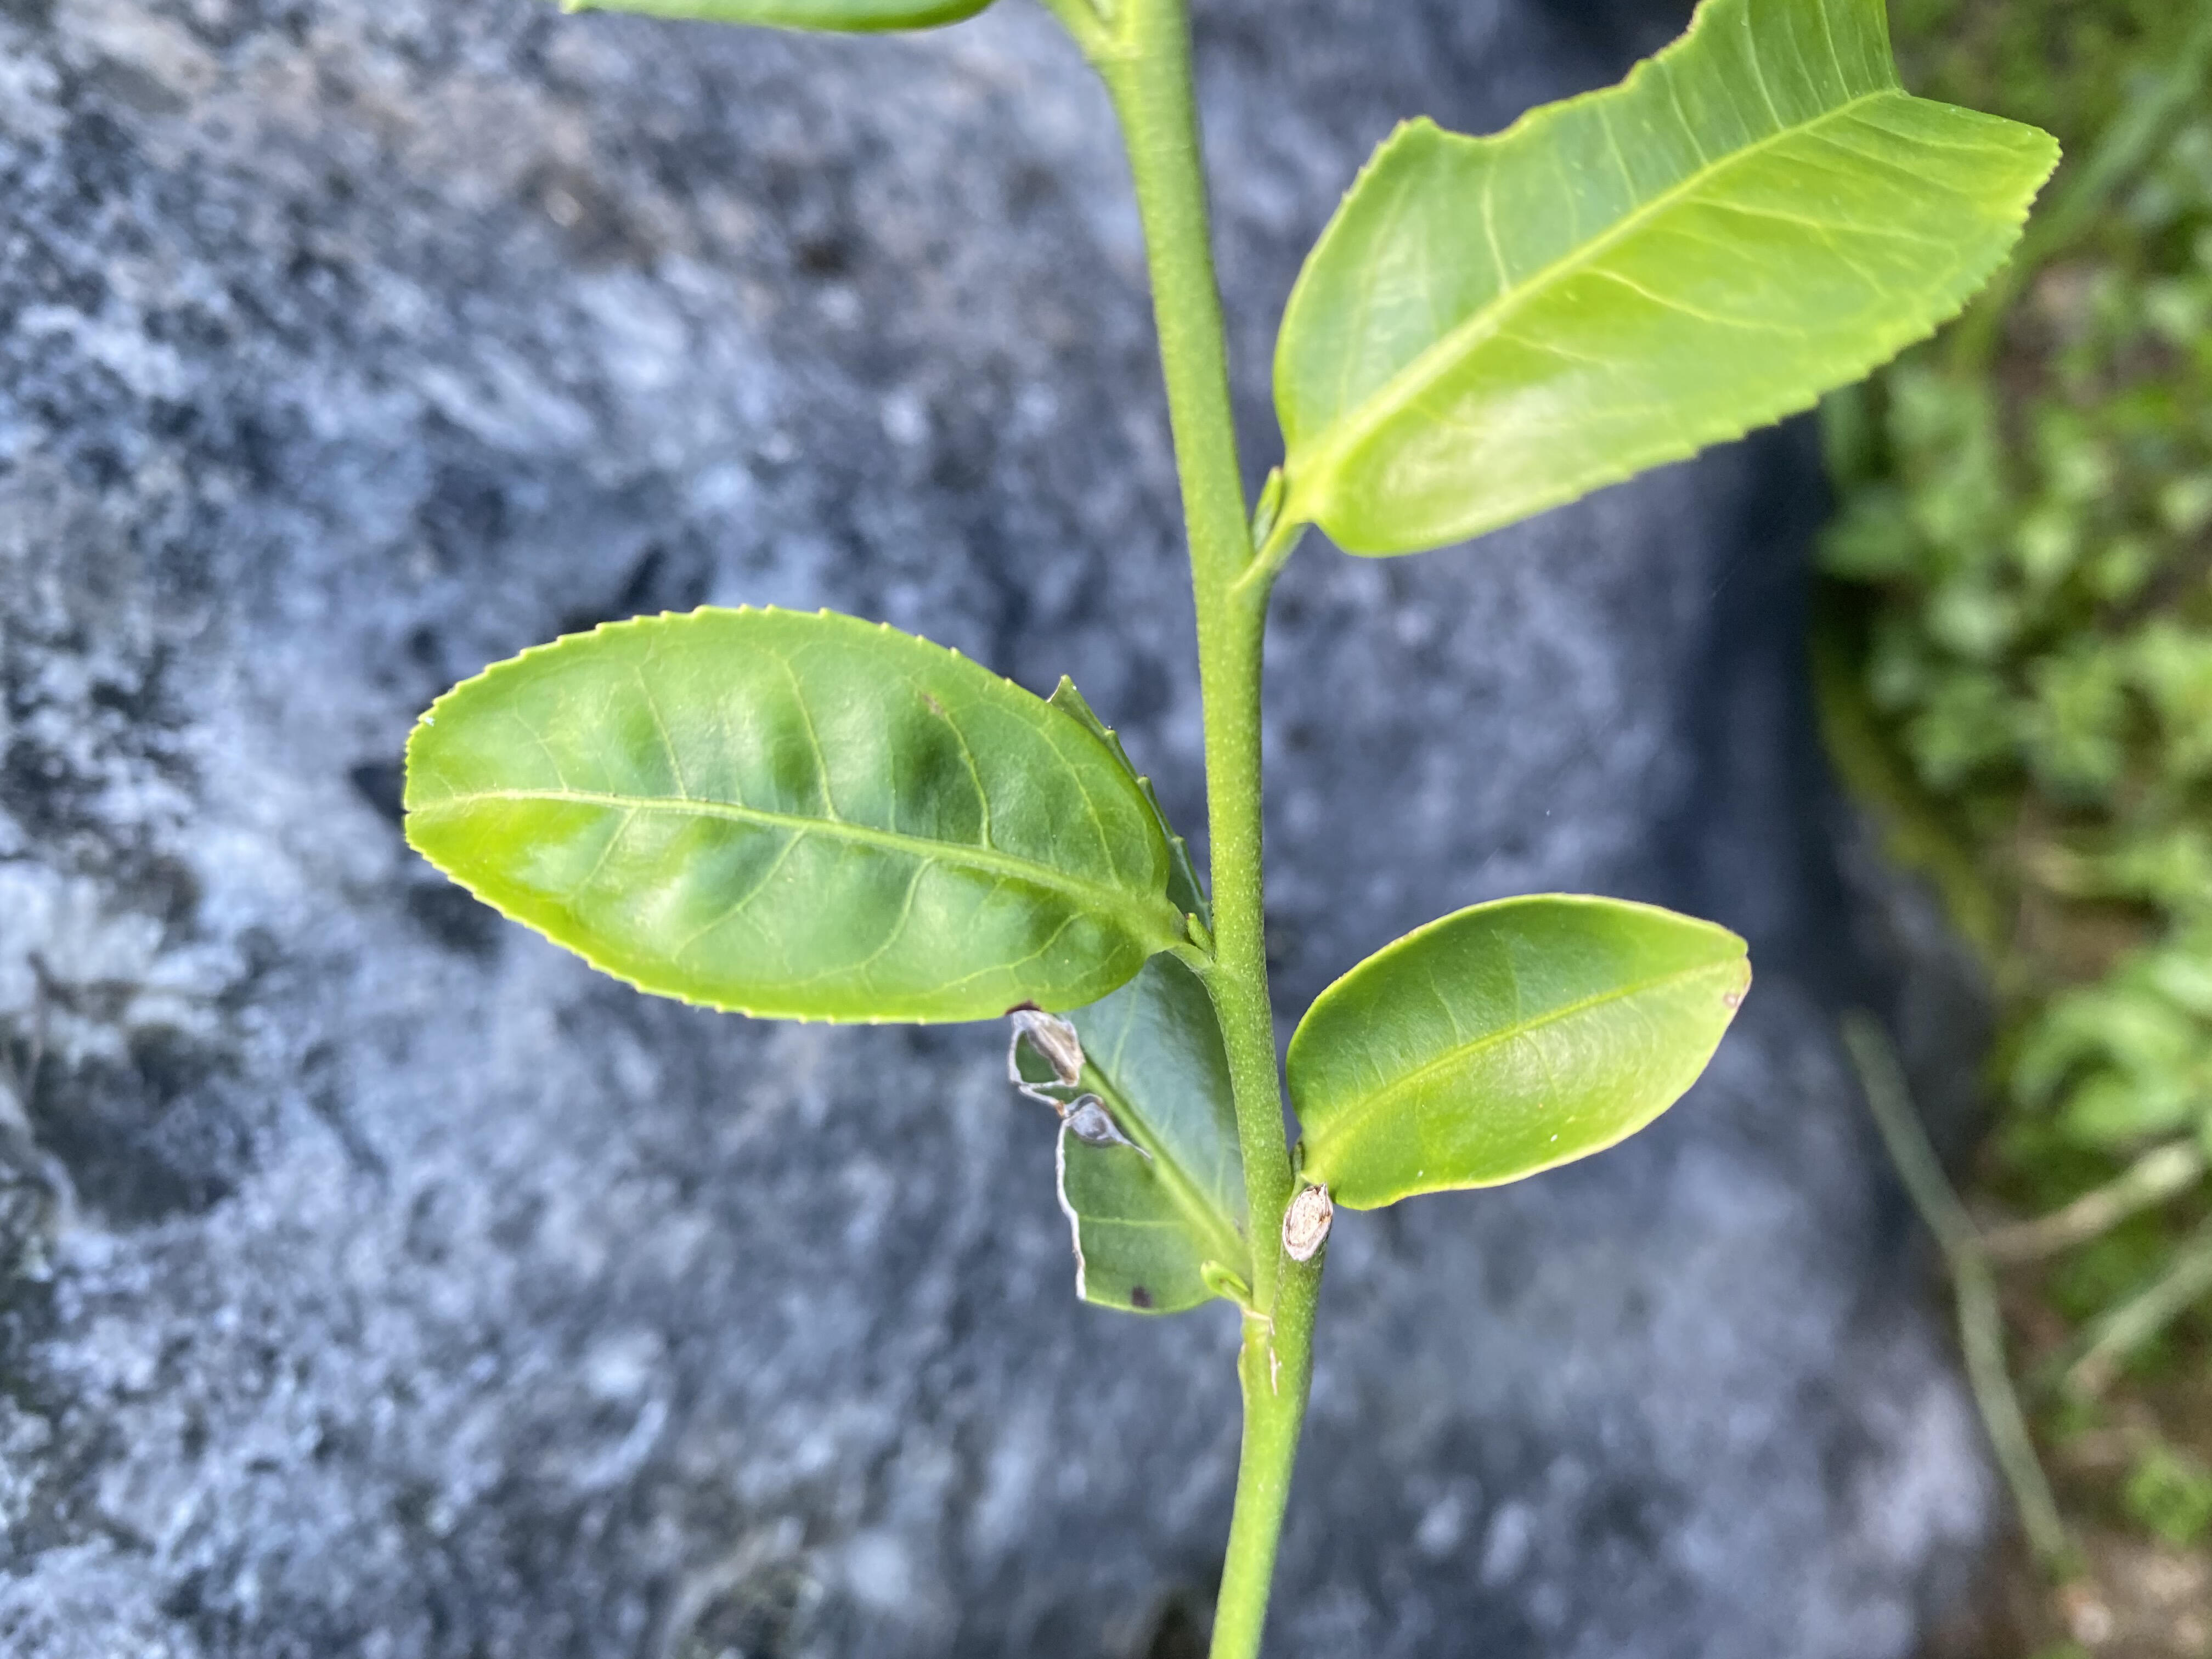chihuo_high: (1261, 3, 2067, 561)
healthy: (397, 603, 1172, 1032), (1292, 885, 1752, 1211)
